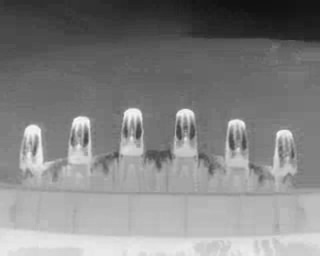claw: (119, 107, 145, 159), (173, 108, 198, 160), (273, 129, 299, 179), (68, 115, 94, 163), (20, 124, 45, 173), (226, 118, 249, 170)
